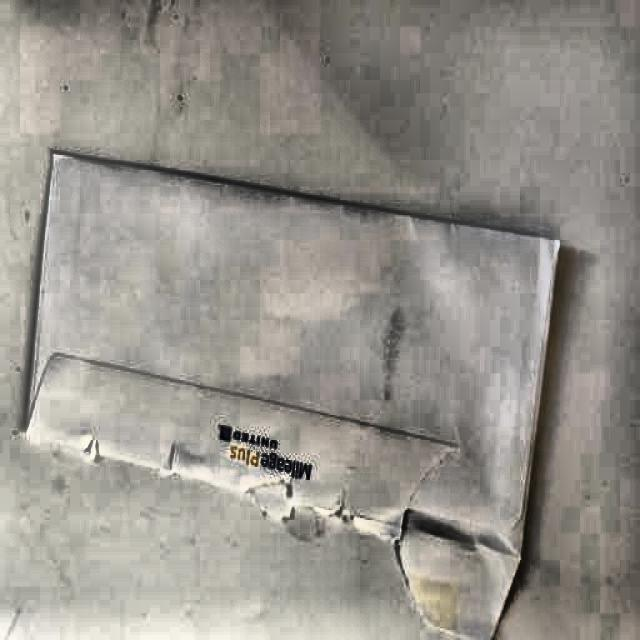paper: (23, 147, 560, 636)
